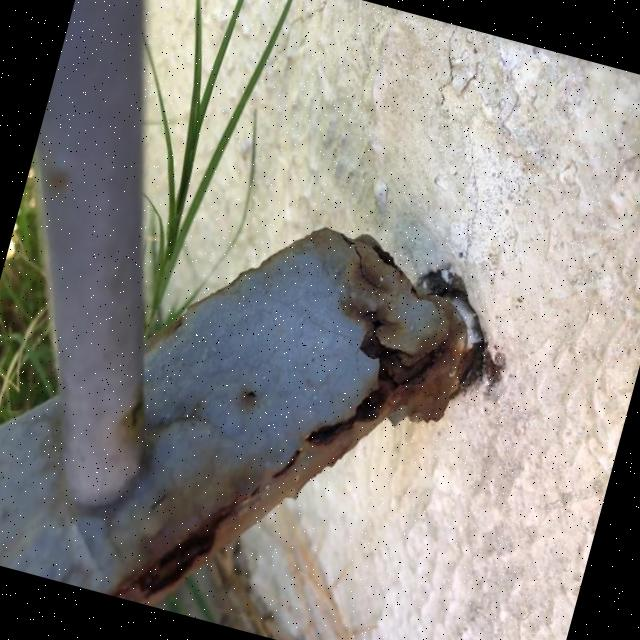Corrosion: (0, 142, 513, 640)
